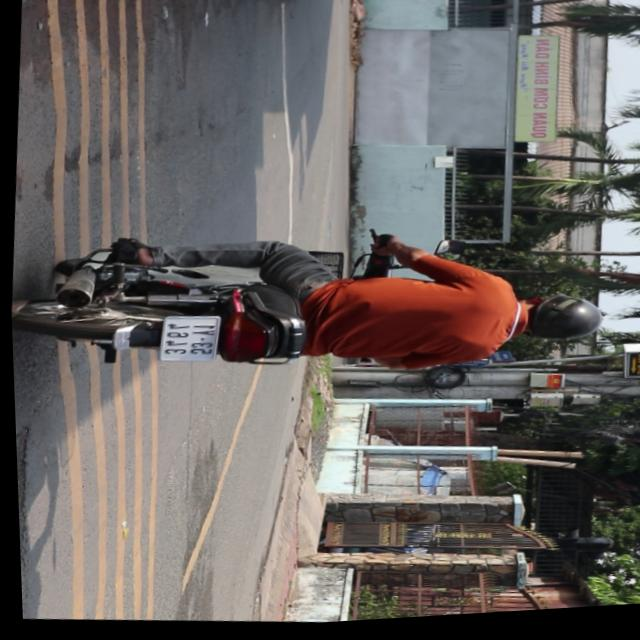helmet: (511, 294, 604, 354)
licenseplate: (7, 199, 611, 415)
nohelmet: (158, 314, 217, 367)
